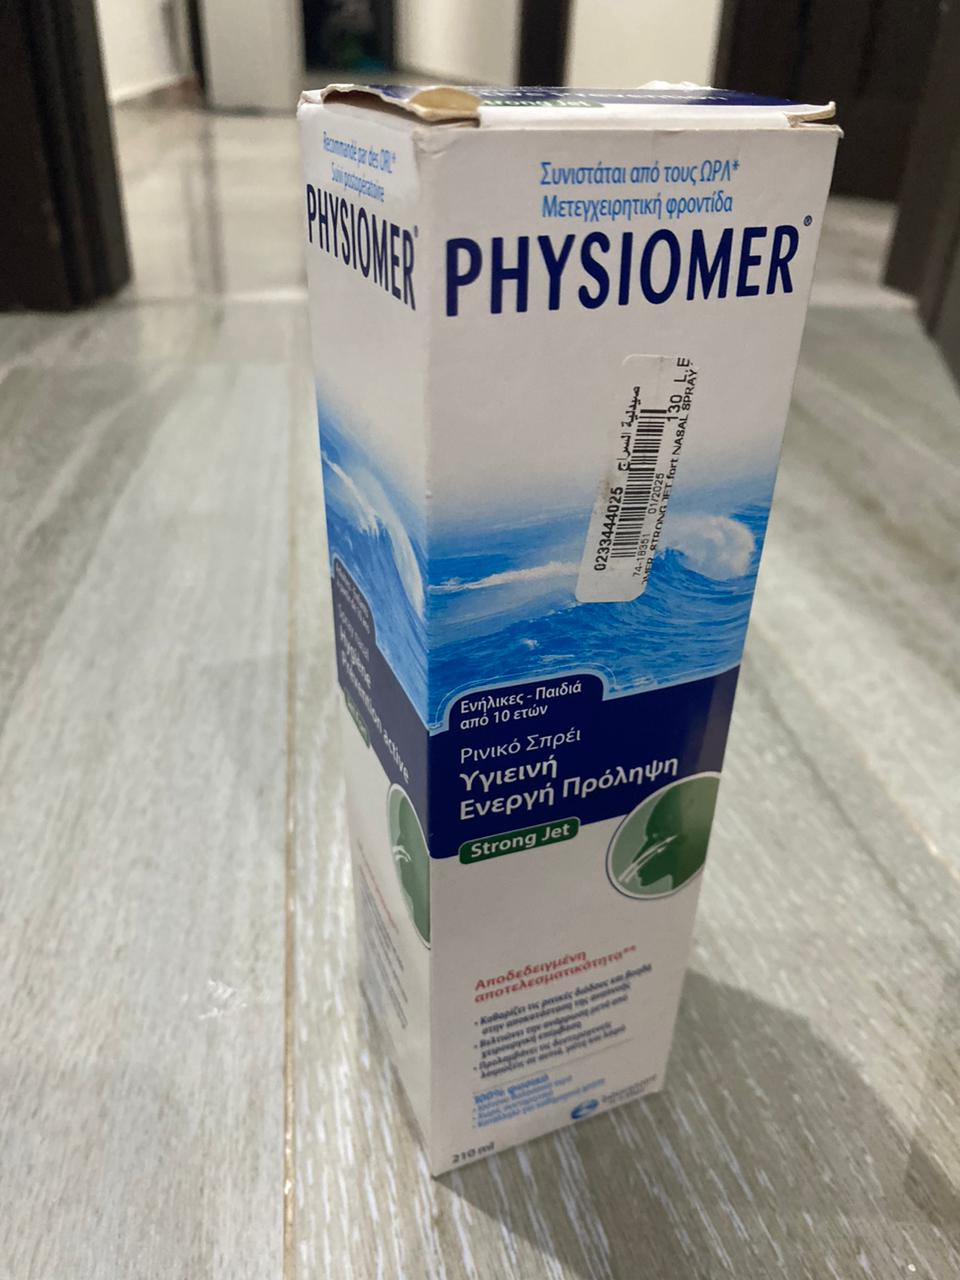Physiomer: (273, 61, 850, 1183)
